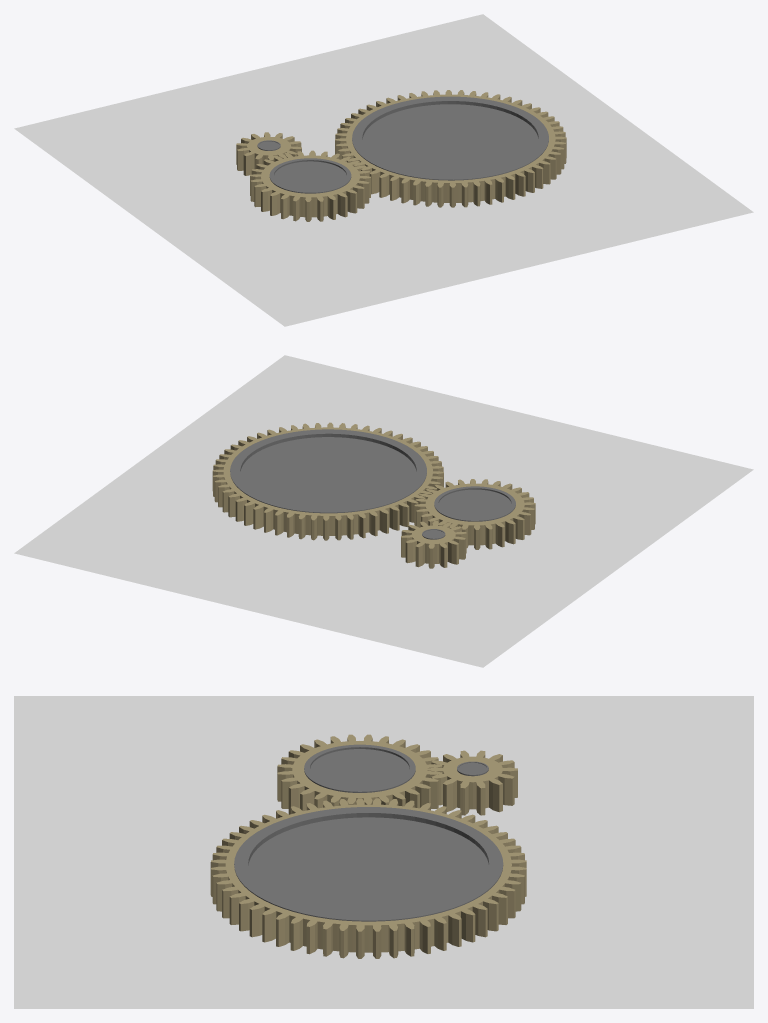
File: gear_colored_last.fbx
The picture shows the model from 3 angles, top to bottom: view 1: azimuth 30°, elevation 25°; view 2: azimuth 150°, elevation 25°; view 3: azimuth 270°, elevation 25°; orthographic projection. The views are drawn at different scales.
Visible parts, largest first — view 1: Plane, Circle.002, Gear.002, Gear, Circle, Gear.001; view 2: Plane, Circle.002, Gear.002, Gear, Gear.001, Circle; view 3: Plane, Circle.002, Gear.002, Gear, Circle, Gear.001.
Part boxes in pixels (bbox=[...]): Plane: bbox=[14, 14, 753, 326]; Circle.002: bbox=[352, 96, 548, 180]; Gear.002: bbox=[335, 90, 566, 207]; Gear: bbox=[250, 150, 370, 221]; Circle: bbox=[269, 158, 351, 193]; Gear.001: bbox=[236, 132, 301, 175]; Plane: bbox=[14, 355, 753, 667]; Circle.002: bbox=[230, 429, 426, 513]; Gear.002: bbox=[212, 422, 443, 540]; Gear: bbox=[414, 479, 535, 549]; Gear.001: bbox=[401, 521, 466, 568]; Circle: bbox=[434, 486, 515, 521]; Plane: bbox=[14, 696, 753, 1008]; Circle.002: bbox=[234, 807, 503, 921]; Gear.002: bbox=[210, 798, 526, 958]; Gear: bbox=[277, 734, 442, 814]; Circle: bbox=[304, 744, 415, 792]; Gear.001: bbox=[427, 750, 517, 815].
Size of the model in its own units: 983 by 44.6 by 983.
